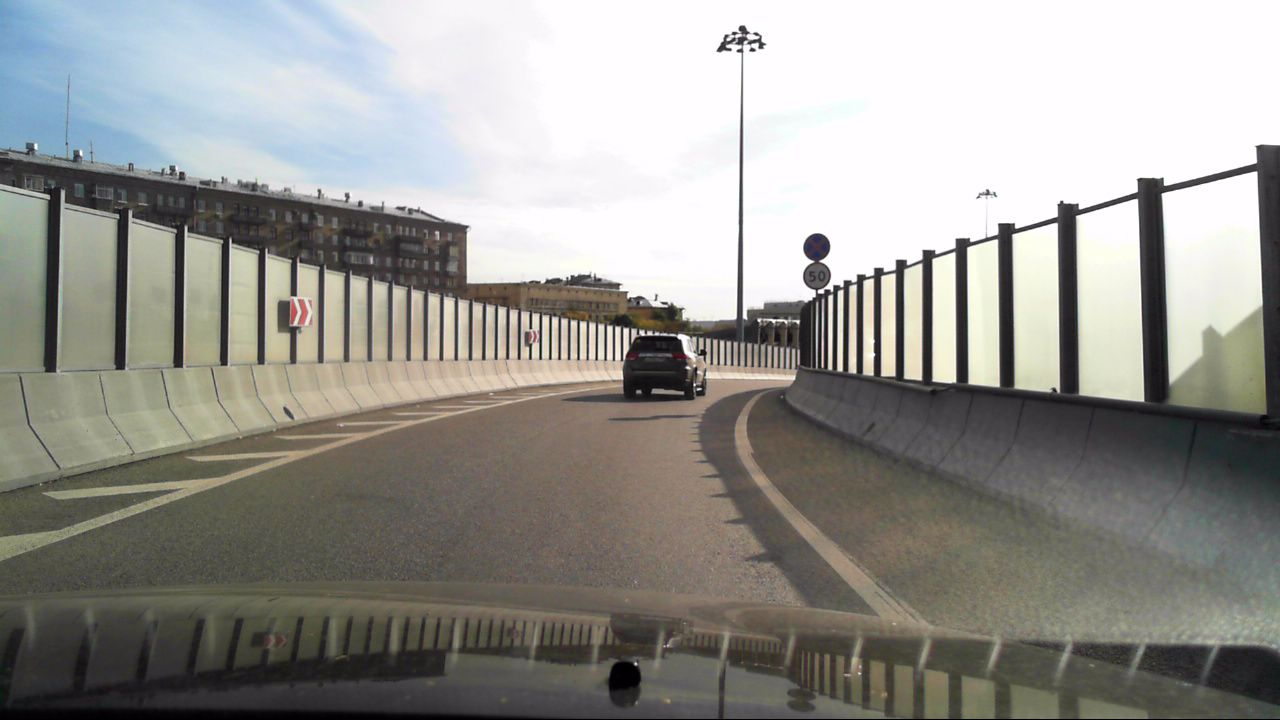No Parking: (803, 232, 830, 261)
